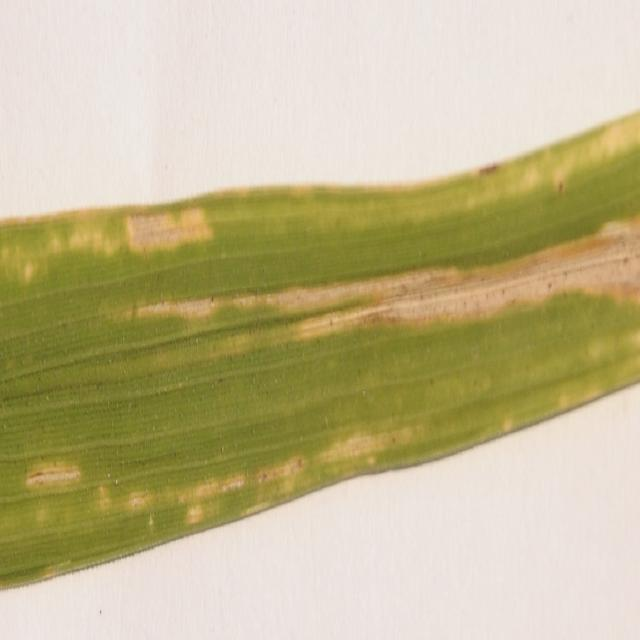leaf blight: (102, 178, 640, 368), (12, 442, 306, 539), (0, 205, 215, 296), (312, 404, 426, 488)
